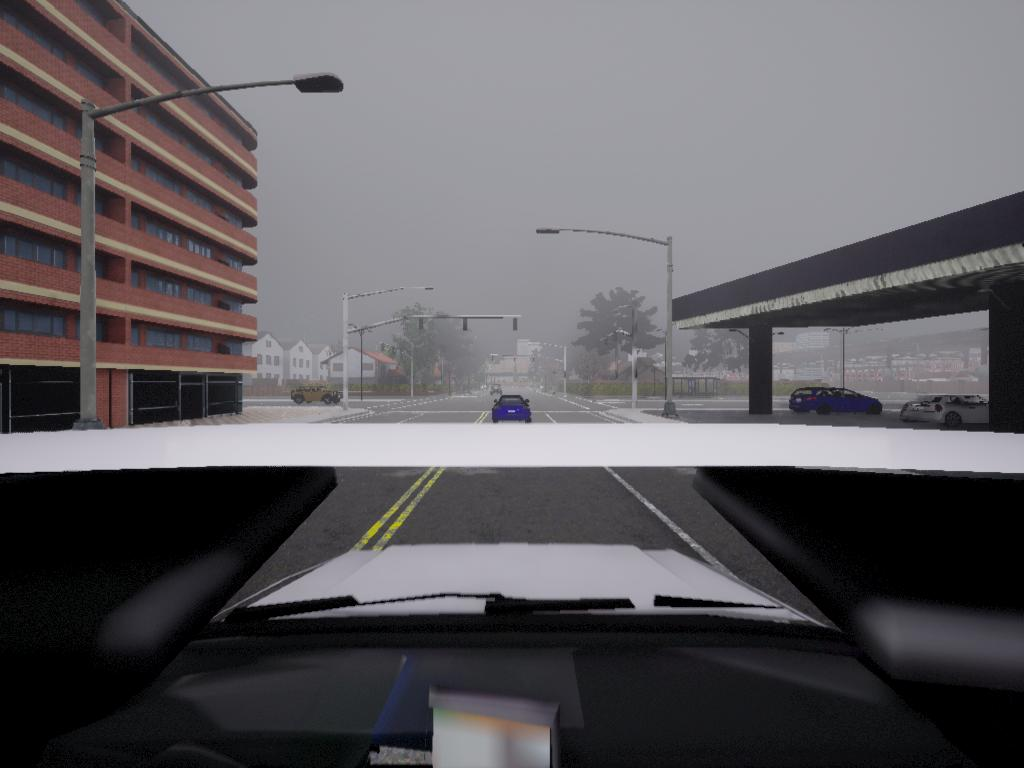traffic_light: (419, 317, 425, 333), (463, 318, 469, 333), (513, 318, 519, 332), (401, 349, 406, 363), (613, 331, 618, 343), (392, 347, 397, 359), (381, 343, 386, 354), (605, 336, 609, 347), (514, 355, 518, 365), (492, 356, 495, 364), (533, 356, 536, 364)
